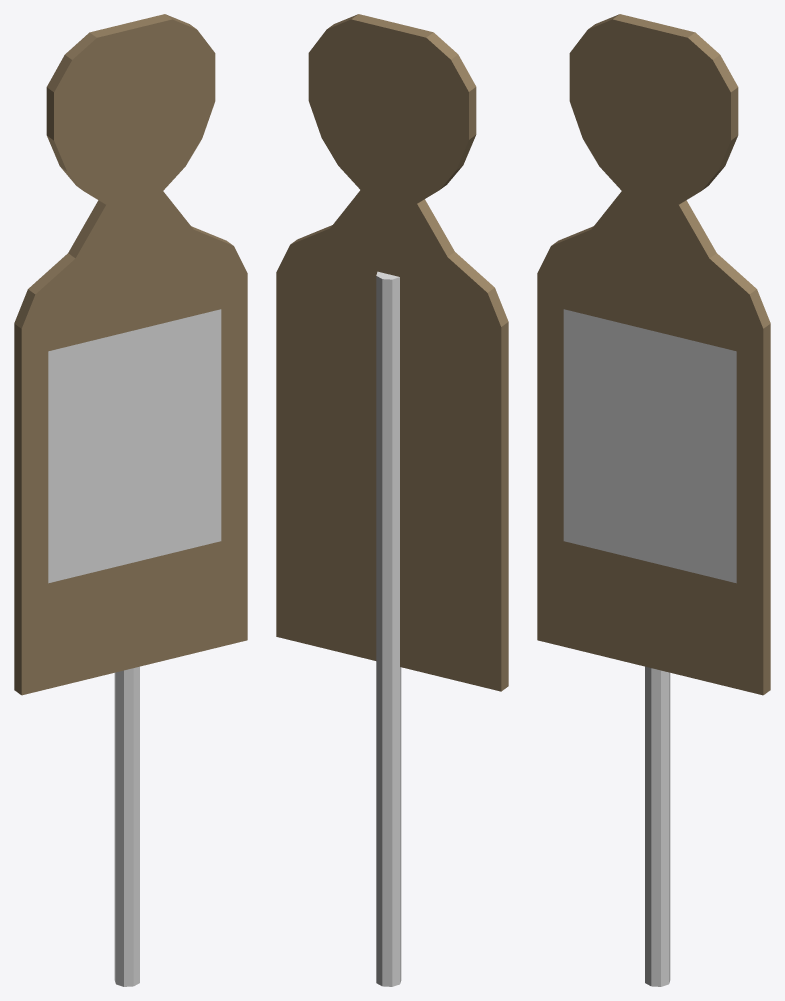
Rendered from Target.fbx.
The picture shows the model from 3 angles, left to right: view 1: azimuth 30°, elevation 25°; view 2: azimuth 150°, elevation 25°; view 3: azimuth 330°, elevation 25°; orthographic projection.
Visible parts, largest first — view 1: GalleryTarget; view 2: GalleryTarget; view 3: GalleryTarget.
Boxes of the visible parts, x1,y1,x2,y2 form: GalleryTarget: (14,14,247,986); GalleryTarget: (276,14,508,986); GalleryTarget: (537,14,770,986).
Bounding box in the file's own units: 0.8704 × 0.0943 × 3.52.
